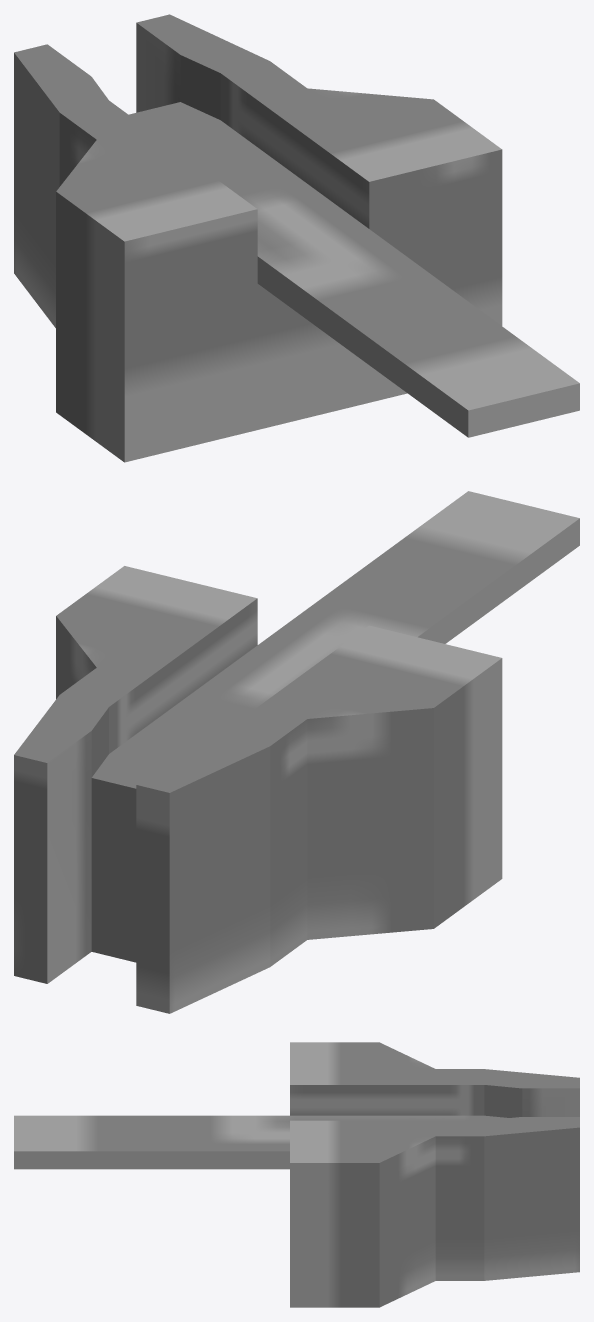
The model's file is prop_2ndFloor_EM_B.fbx.
3 views of the same model, one above another, from view 1: azimuth 30°, elevation 25°; view 2: azimuth 150°, elevation 25°; view 3: azimuth 270°, elevation 25° (orthographic). The views are drawn at different scales.
Parts seen in each view (by area): view 1: prop_2ndFloor_EM_B, prop_2ndFloor_EM_B.001; view 2: prop_2ndFloor_EM_B, prop_2ndFloor_EM_B.001; view 3: prop_2ndFloor_EM_B, prop_2ndFloor_EM_B.001.
Part boxes in pixels (<box>): prop_2ndFloor_EM_B: <box>14,14,502,462</box>; prop_2ndFloor_EM_B.001: <box>129,102,579,437</box>; prop_2ndFloor_EM_B: <box>14,566,502,1013</box>; prop_2ndFloor_EM_B.001: <box>91,491,579,815</box>; prop_2ndFloor_EM_B: <box>290,1042,579,1307</box>; prop_2ndFloor_EM_B.001: <box>14,1115,508,1169</box>.
Size of the model in its own units: 1673 by 935 by 3316.
